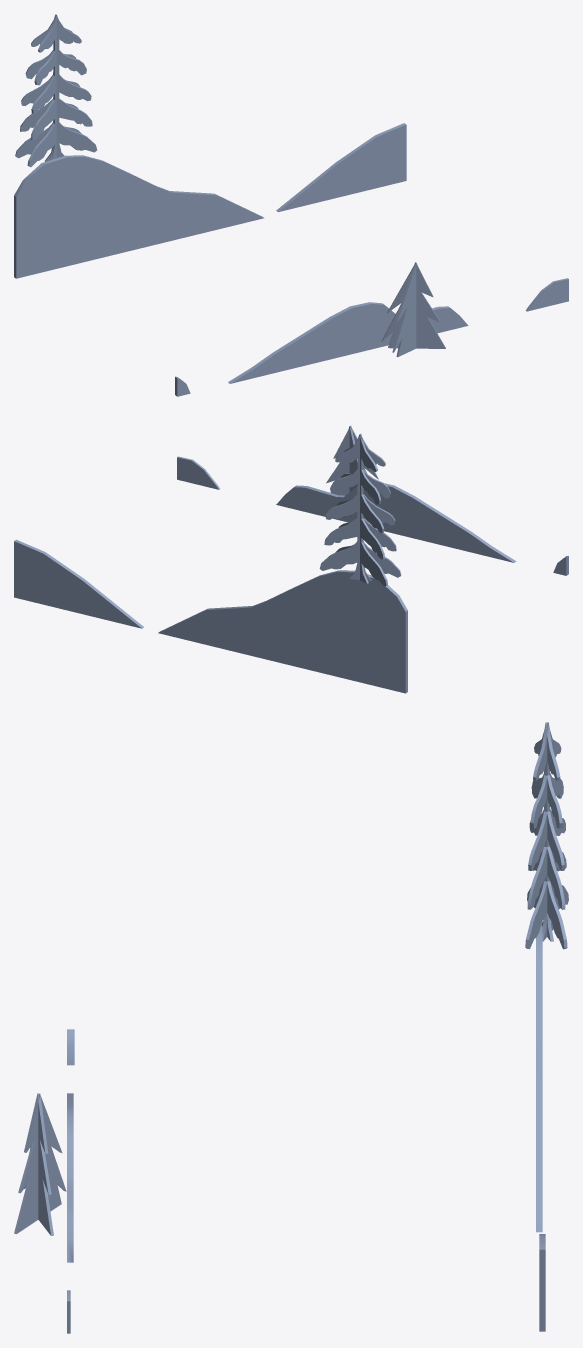
The model's file is frame_0112.glb.
The picture shows the model from 3 angles, top to bottom: view 1: azimuth 30°, elevation 25°; view 2: azimuth 150°, elevation 25°; view 3: azimuth 270°, elevation 25°; orthographic projection. The views are drawn at different scales.
Visible parts, largest first — view 1: export_trees_001.002; view 2: export_trees_001.002; view 3: export_trees_001.002.
Part boxes in pixels (<box>): export_trees_001.002: <box>14,14,568,396</box>; export_trees_001.002: <box>14,425,568,693</box>; export_trees_001.002: <box>14,722,568,1333</box>.
Size of the model in its own units: 0.4327 by 0.2648 by 0.3654.
